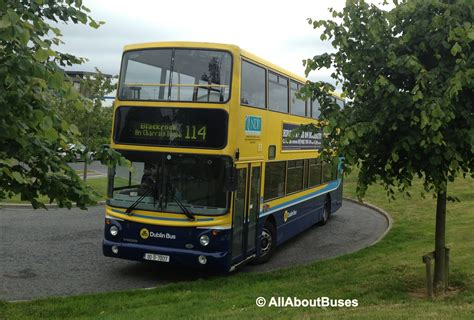bus: (102, 42, 344, 273)
